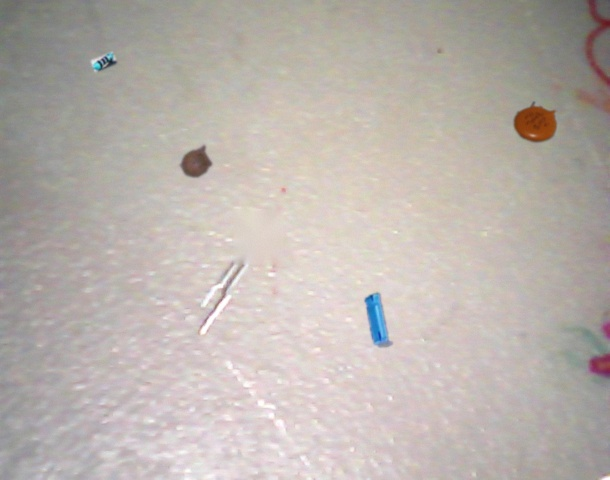capacitor: (514, 101, 557, 142), (365, 293, 392, 347), (180, 145, 212, 178)
resistor: (91, 52, 117, 72)
